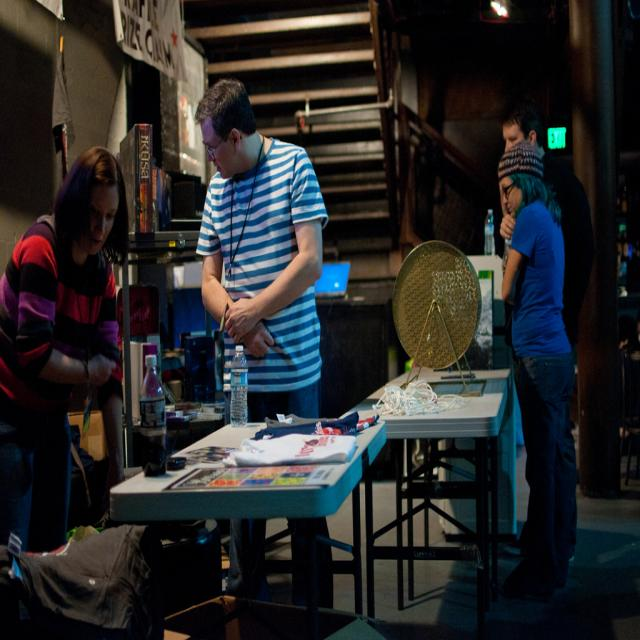desk: (109, 418, 389, 640)
person: (0, 142, 129, 554), (194, 77, 330, 421), (499, 144, 579, 602)
